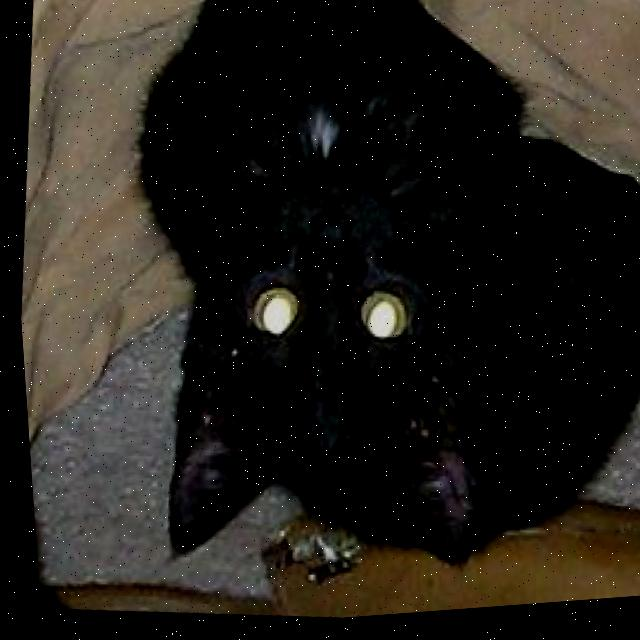Bombay: (81, 0, 640, 622)
